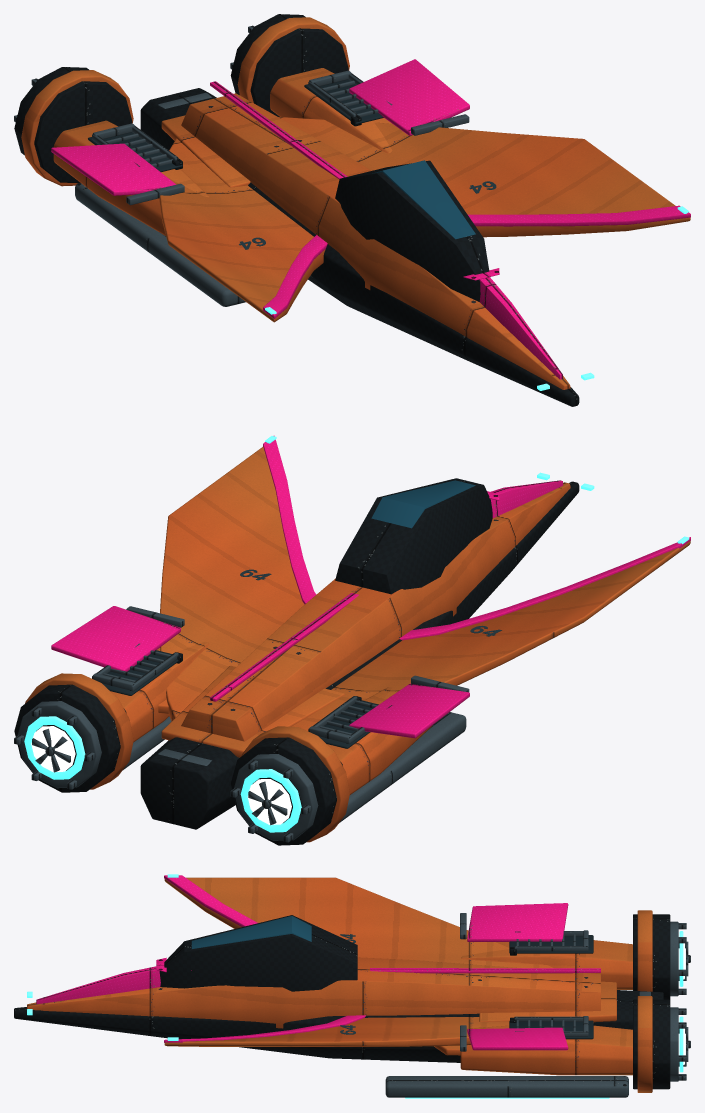
The model's file is vesper-player.glb.
3 renders of one model, top to bottom at view 1: azimuth 30°, elevation 25°; view 2: azimuth 150°, elevation 25°; view 3: azimuth 270°, elevation 25°, orthographic. The views are drawn at different scales.
Parts seen in each view (by area): view 1: Surface Burnished copper, Surface Carbon composite, Surface Ion magenta, Surface Brushed titanium, Mechanism airbrake_positive_x.001 Ion magenta, Mechanism airbrake_negative_x.001 Ion magenta, Surface Polarised canopy, Surface Intake shadow, Mechanism cooling_positive_x.001 Brushed titanium, Mechanism cooling_negative_x.001 Brushed titanium; view 2: Surface Burnished copper, Surface Carbon composite, Surface Brushed titanium, Surface Ion magenta, Mechanism airbrake_positive_x.001 Ion magenta, Mechanism airbrake_negative_x.001 Ion magenta, Surface Ion cyan, Surface Polarised canopy, Surface Reactor white, Mechanism cooling_negative_x.001 Brushed titanium, Mechanism cooling_positive_x.001 Brushed titanium, Surface Intake shadow (+2 smaller); view 3: Surface Burnished copper, Surface Carbon composite, Surface Brushed titanium, Surface Ion magenta, Mechanism airbrake_negative_x.001 Ion magenta, Mechanism airbrake_positive_x.001 Ion magenta, Surface Polarised canopy, Surface Intake shadow, Surface Ion cyan, Mechanism cooling_negative_x.001 Brushed titanium, Mechanism cooling_positive_x.001 Brushed titanium.
Boxes of the visible parts, x1=… form: Surface Burnished copper: x1=21, y1=17, x2=690, y2=389; Surface Carbon composite: x1=14, y1=14, x2=579, y2=406; Surface Ion magenta: x1=210, y1=81, x2=690, y2=379; Surface Brushed titanium: x1=14, y1=25, x2=469, y2=306; Mechanism airbrake_positive_x.001 Ion magenta: x1=349, y1=59, x2=469, y2=135; Mechanism airbrake_negative_x.001 Ion magenta: x1=51, y1=143, x2=175, y2=195; Surface Polarised canopy: x1=372, y1=160, x2=475, y2=239; Surface Intake shadow: x1=88, y1=79, x2=383, y2=171; Mechanism cooling_positive_x.001 Brushed titanium: x1=308, y1=70, x2=392, y2=117; Mechanism cooling_negative_x.001 Brushed titanium: x1=92, y1=123, x2=178, y2=167; Surface Burnished copper: x1=25, y1=447, x2=690, y2=842; Surface Carbon composite: x1=14, y1=478, x2=579, y2=845; Surface Brushed titanium: x1=14, y1=606, x2=469, y2=842; Surface Ion magenta: x1=210, y1=435, x2=690, y2=701; Mechanism airbrake_positive_x.001 Ion magenta: x1=51, y1=606, x2=180, y2=671; Mechanism airbrake_negative_x.001 Ion magenta: x1=349, y1=683, x2=469, y2=738; Surface Ion cyan: x1=24, y1=436, x2=689, y2=832; Surface Polarised canopy: x1=371, y1=480, x2=475, y2=528; Surface Reactor white: x1=31, y1=726, x2=291, y2=824; Mechanism cooling_negative_x.001 Brushed titanium: x1=308, y1=696, x2=392, y2=743; Mechanism cooling_positive_x.001 Brushed titanium: x1=92, y1=643, x2=178, y2=691; Surface Intake shadow: x1=103, y1=650, x2=378, y2=748; Surface Burnished copper: x1=27, y1=877, x2=652, y2=1092; Surface Carbon composite: x1=14, y1=914, x2=670, y2=1089; Surface Brushed titanium: x1=385, y1=913, x2=686, y2=1097; Surface Ion magenta: x1=36, y1=875, x2=600, y2=1042; Mechanism airbrake_negative_x.001 Ion magenta: x1=467, y1=903, x2=568, y2=941; Mechanism airbrake_positive_x.001 Ion magenta: x1=467, y1=1027, x2=568, y2=1050; Surface Polarised canopy: x1=191, y1=916, x2=311, y2=948; Surface Intake shadow: x1=509, y1=935, x2=593, y2=1039; Surface Ion cyan: x1=27, y1=874, x2=683, y2=1098; Mechanism cooling_negative_x.001 Brushed titanium: x1=514, y1=930, x2=588, y2=951; Mechanism cooling_positive_x.001 Brushed titanium: x1=514, y1=1016, x2=588, y2=1036.
Size of the model in its own units: 4.17 by 1.52 by 7.23.
Materials: 9 (4 with a texture image).
